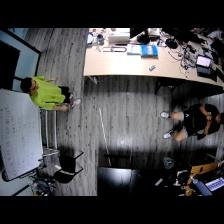normal: (162, 105, 224, 140), (23, 78, 80, 112)
